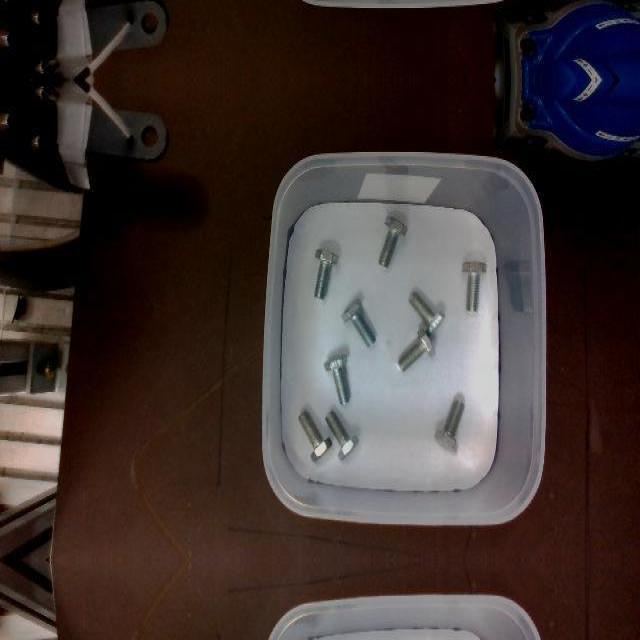screw: (324, 409, 358, 461), (298, 409, 332, 461), (341, 297, 376, 347), (408, 291, 445, 337), (434, 399, 465, 453), (397, 328, 435, 372), (378, 216, 407, 268), (323, 354, 349, 404), (313, 248, 338, 298), (462, 261, 487, 311)
